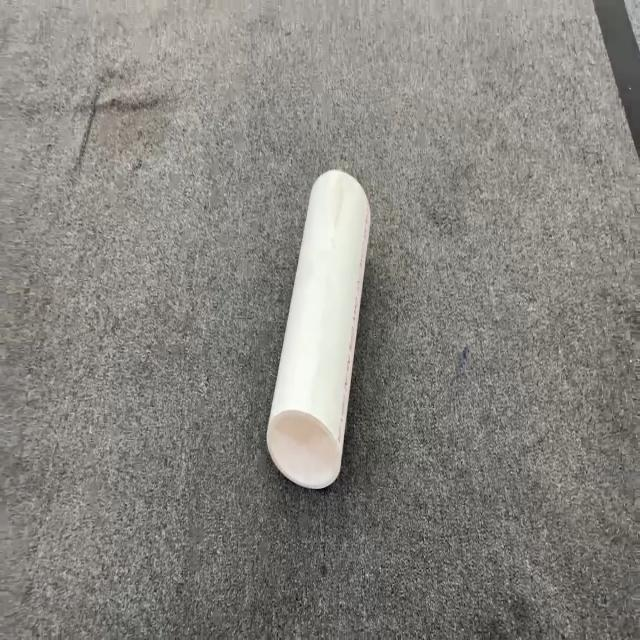coral: (265, 167, 371, 489)
